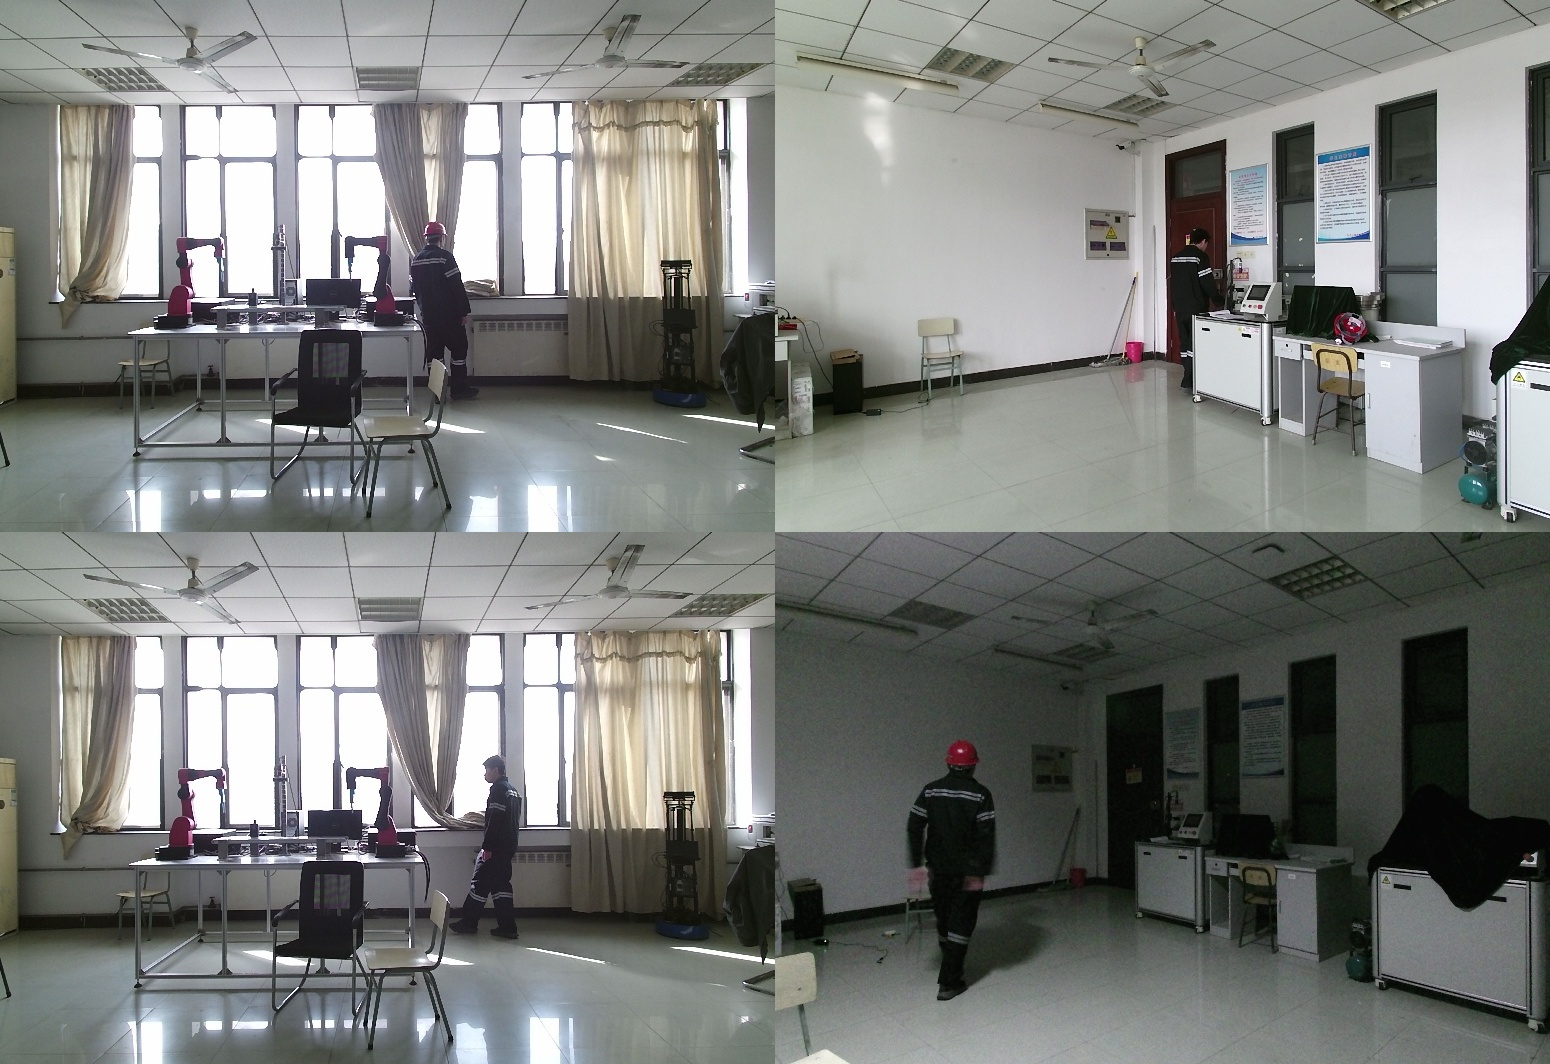person: (904, 740, 1007, 1001), (407, 223, 480, 407), (455, 758, 525, 943), (1170, 232, 1228, 401)
